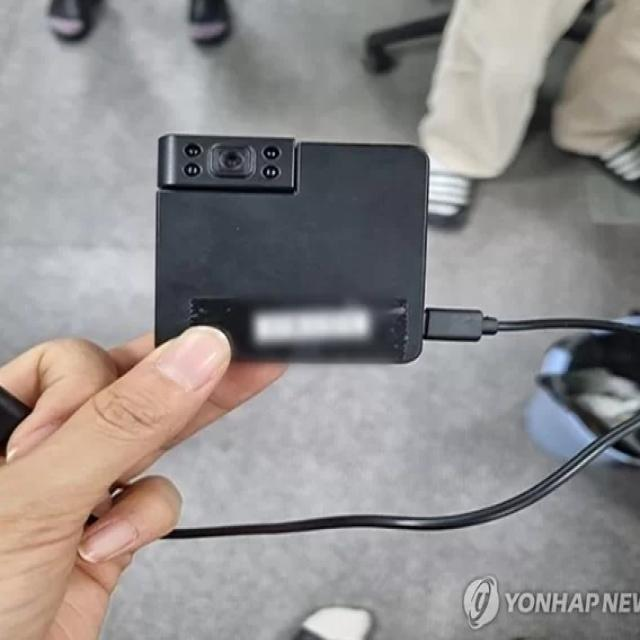hidden camera: (218, 145, 245, 176)
